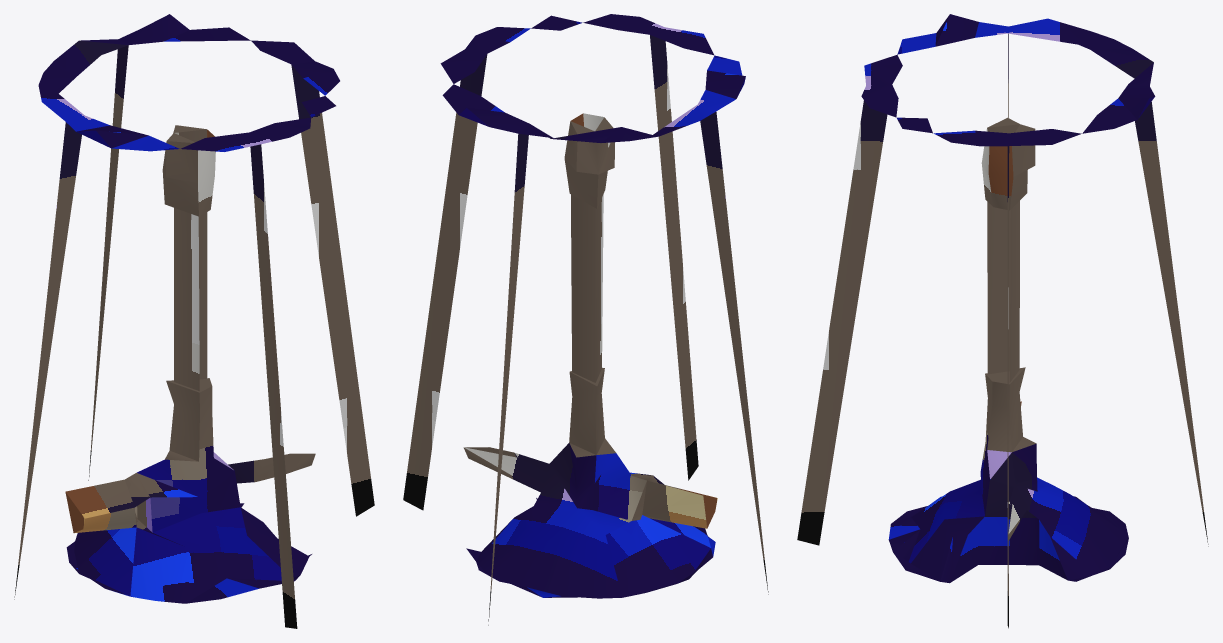
File: bunsen_burner.glb
3 views of the same model, side by side, from view 1: azimuth 30°, elevation 25°; view 2: azimuth 150°, elevation 25°; view 3: azimuth 270°, elevation 25° (orthographic). The views are drawn at different scales.
Visible parts, largest first — view 1: mesh; view 2: mesh; view 3: mesh.
Part boxes in pixels (left/top/right/bottom): mesh: left=14, top=14, right=374, bottom=628; mesh: left=403, top=14, right=768, bottom=625; mesh: left=797, top=14, right=1208, bottom=628.
Size of the model in its own units: 0.1361 by 0.1731 by 0.1361.
Materials: 1 (1 with a texture image).
